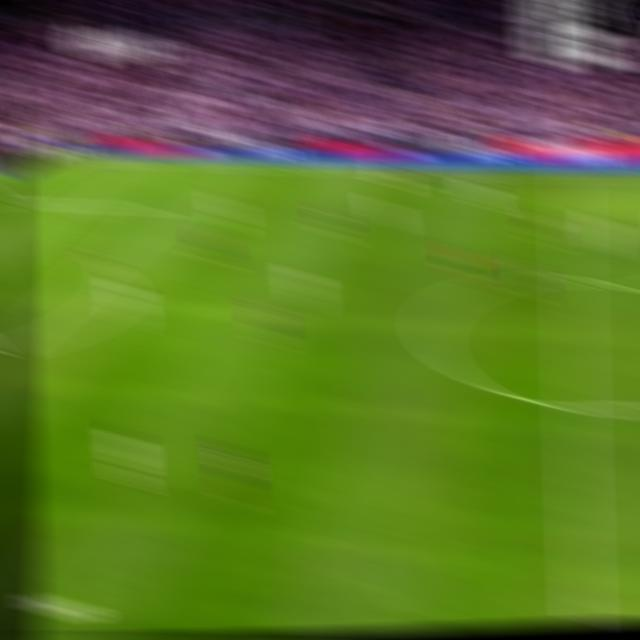bigarea_top_inner: (148, 198, 175, 219)
bottom_arc_area_intersection: (1, 333, 24, 357)
corner: (48, 150, 75, 164)
halfcircle_bottom: (559, 388, 592, 425)
halfcircle_top: (557, 263, 588, 293)
midline_top_intersection: (558, 166, 582, 184)
top_arc_area_intersection: (90, 251, 117, 271)
